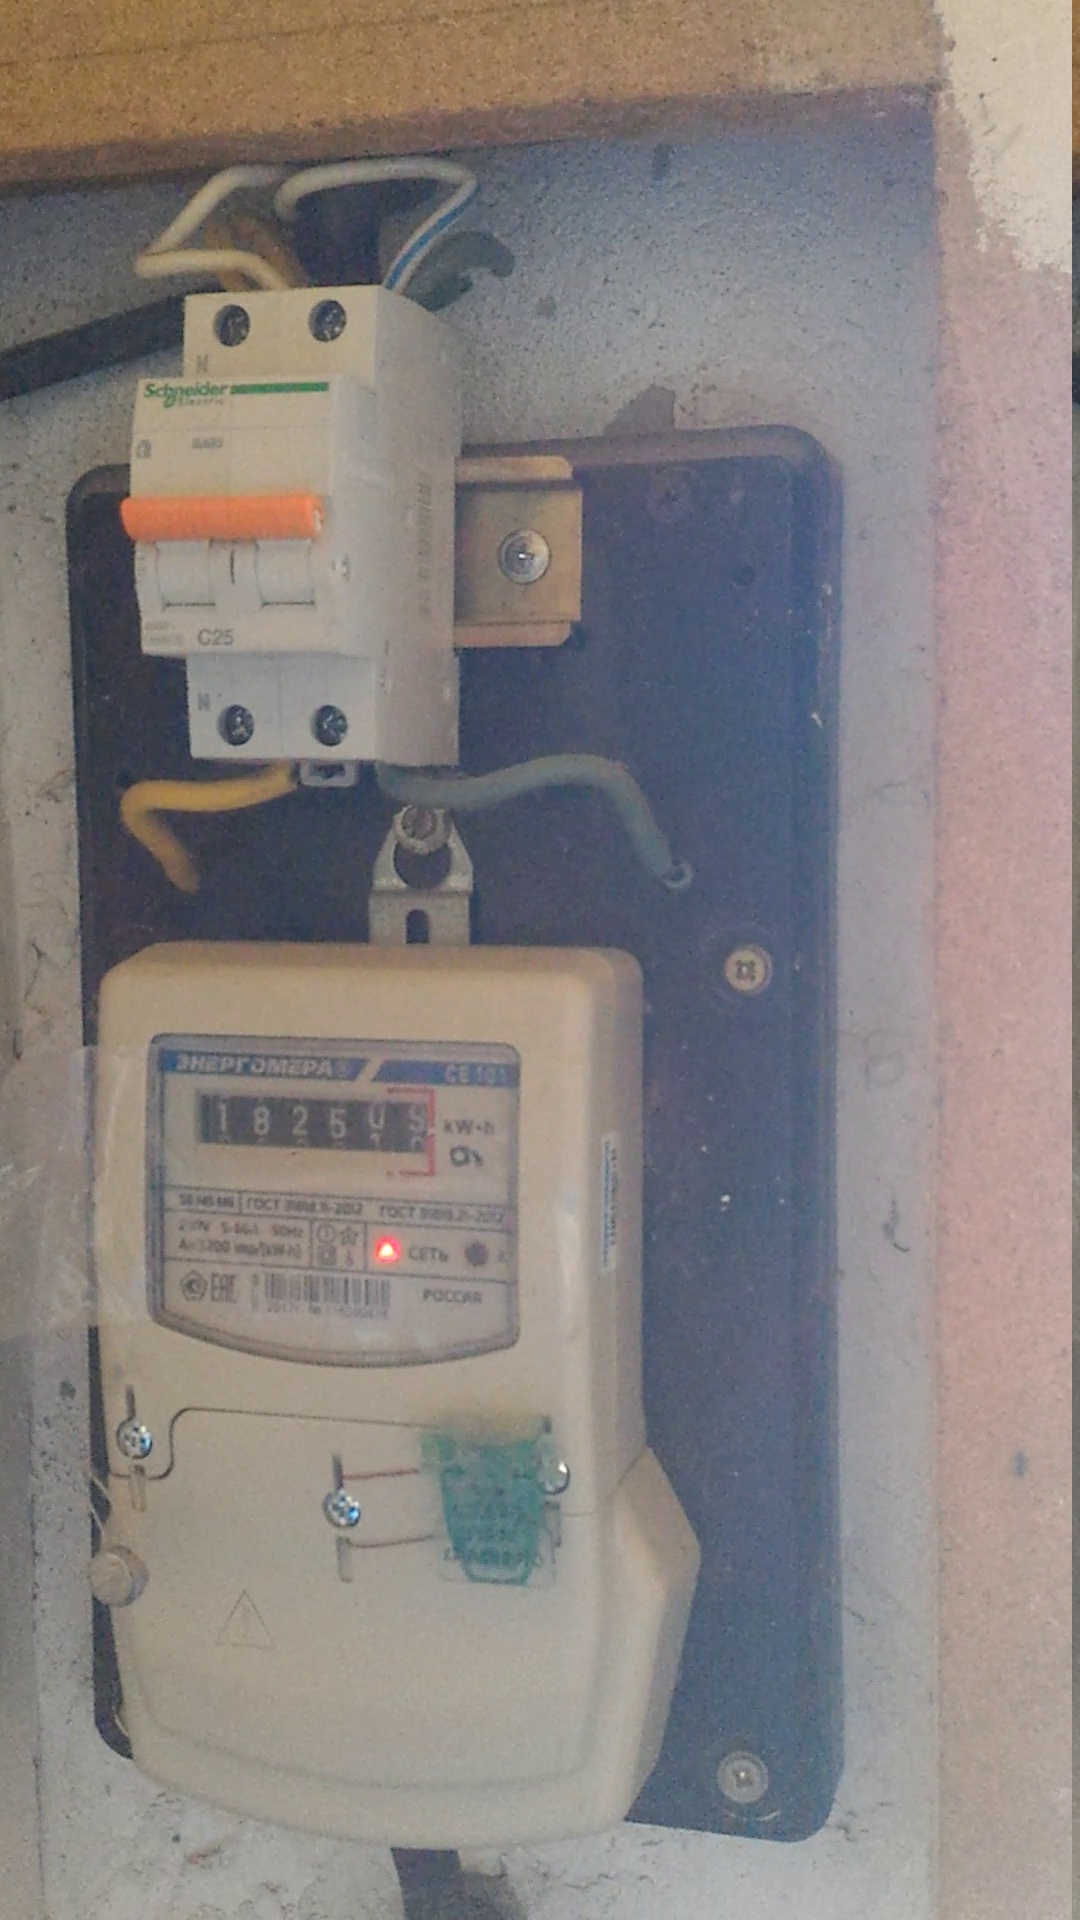counter: (76, 953, 678, 1869)
counter_screen: (196, 1093, 430, 1156)
